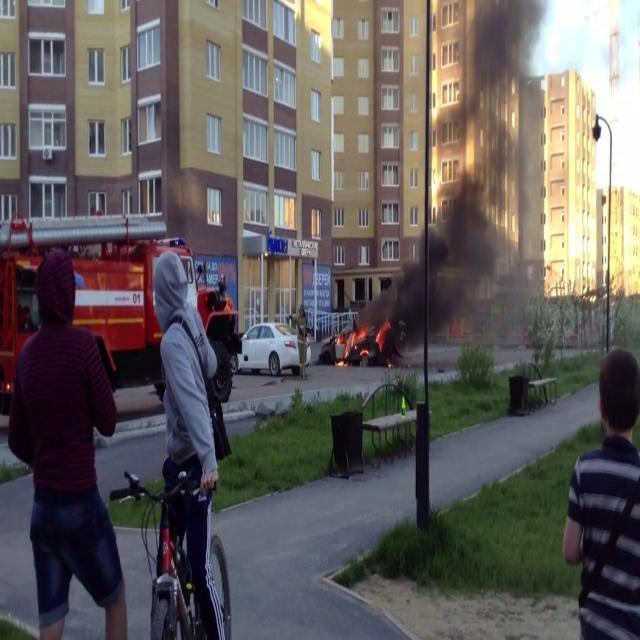Fire: (334, 322, 370, 364)
Smoke: (380, 172, 520, 362), (437, 0, 547, 204)
